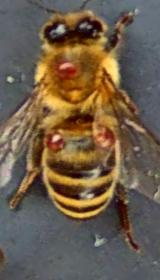varroa_mite: (82, 110, 126, 164), (32, 122, 70, 156), (46, 52, 82, 86)
